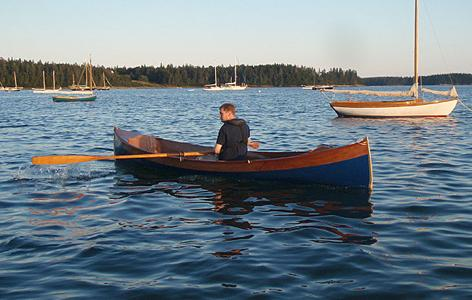person: (210, 104, 253, 163)
